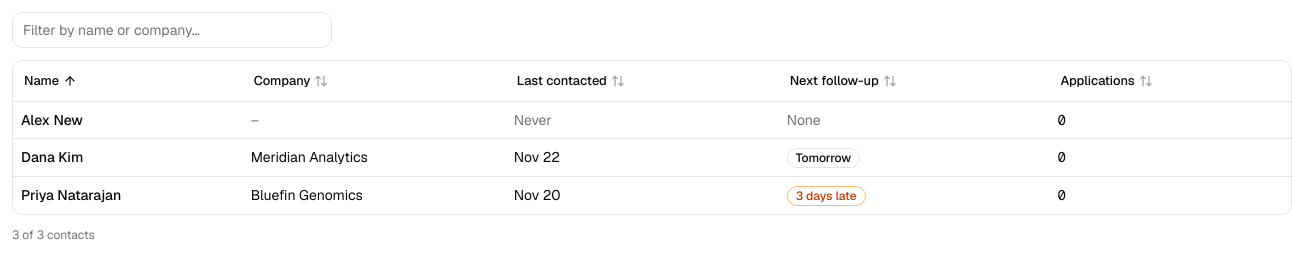
Test: ContactsTable › keeps contacts without a follow-up last in both sort directions
Later steps or results of the test are not shown.
Click the button "Next follow-up": (843, 81) [779,65,908,97]
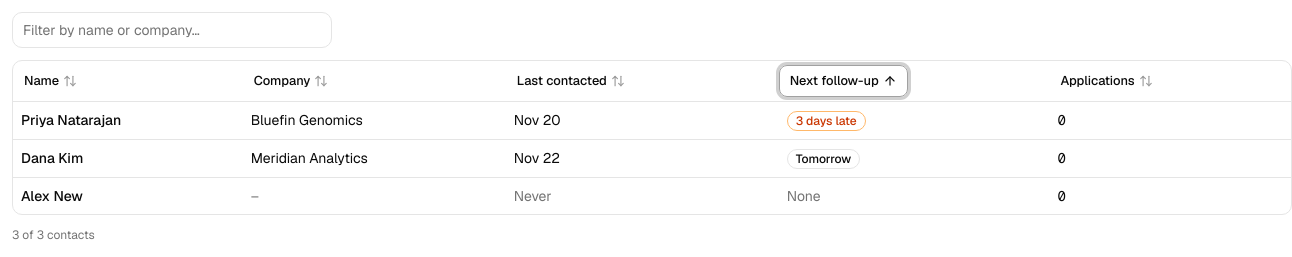
Expected: the column heading "Next follow-up" has attribute aria-sort="ascending", [779,61,1049,101]
